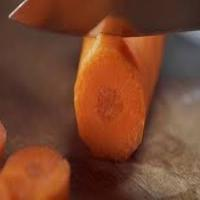biodegradable: (74, 35, 168, 161), (0, 144, 70, 200)
